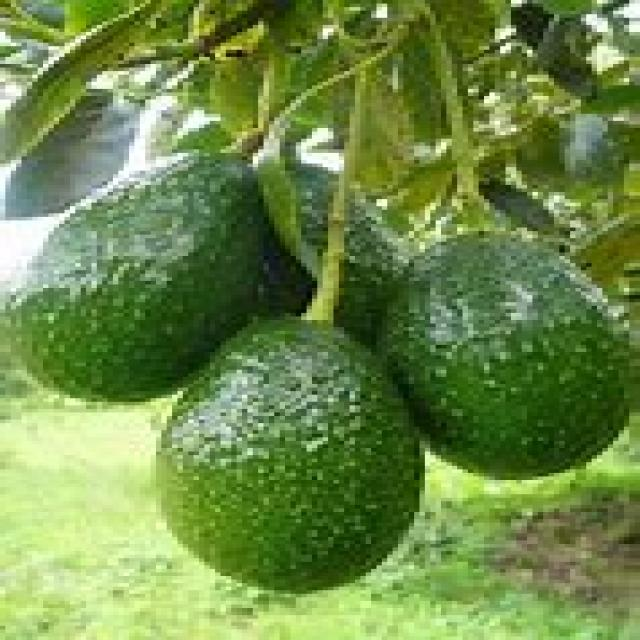Avocado: (160, 314, 460, 612), (7, 147, 313, 405), (394, 235, 624, 508)
